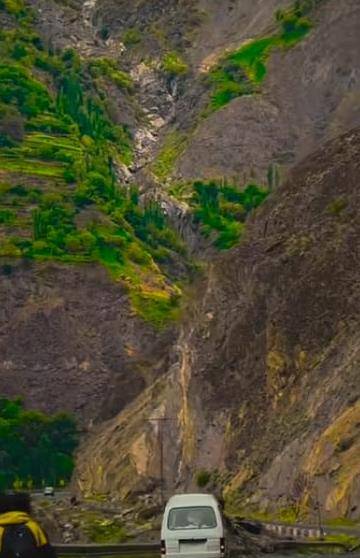right_turn: (0, 474, 360, 558)
